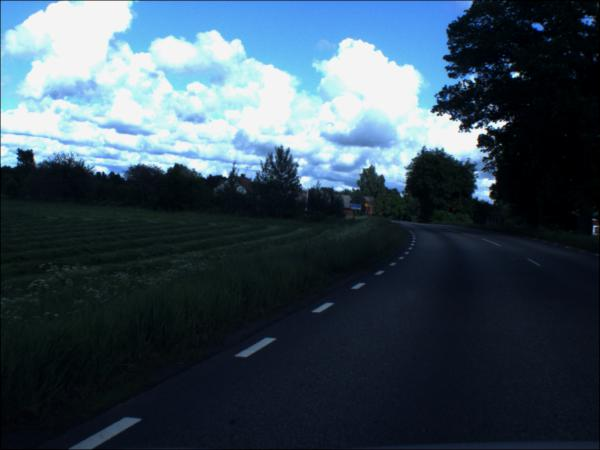50_SIGN: (449, 208, 454, 214), (365, 203, 369, 208)
